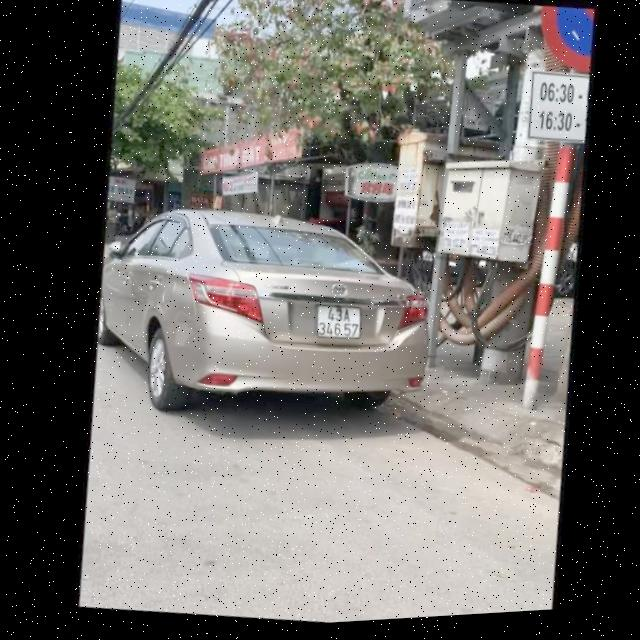car: (78, 181, 454, 454)
plate: (307, 292, 369, 347)
